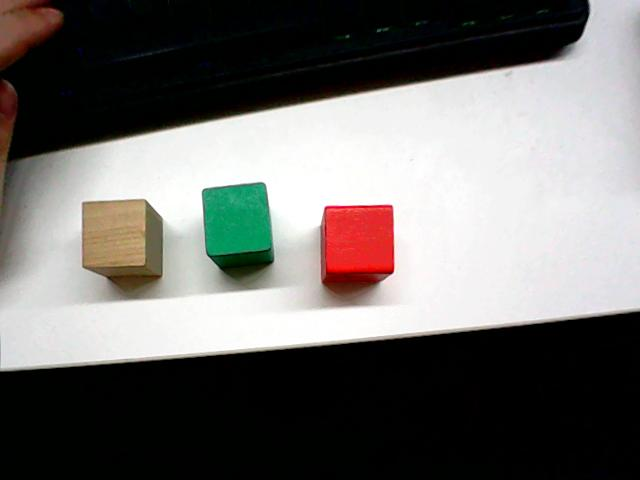green_box: (198, 178, 277, 271)
raw_box: (78, 195, 165, 280)
red_box: (317, 200, 398, 288)
